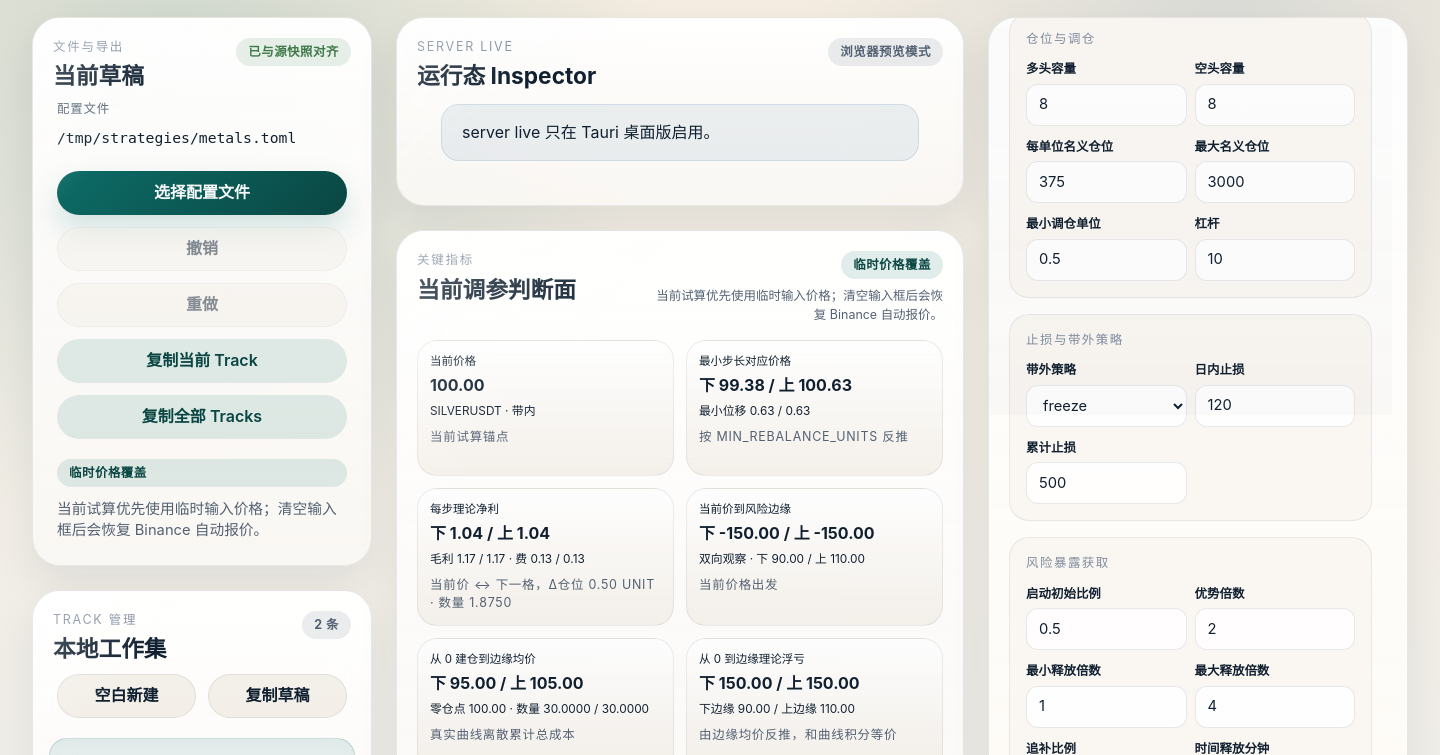
Test: AppShell › shows immediate validation feedback for invalid risk input without blocking the edit
(page scrolled)
Replace the text in the field labelled "日内止损" with "0" at (1275,406), box [1194,385,1355,427]
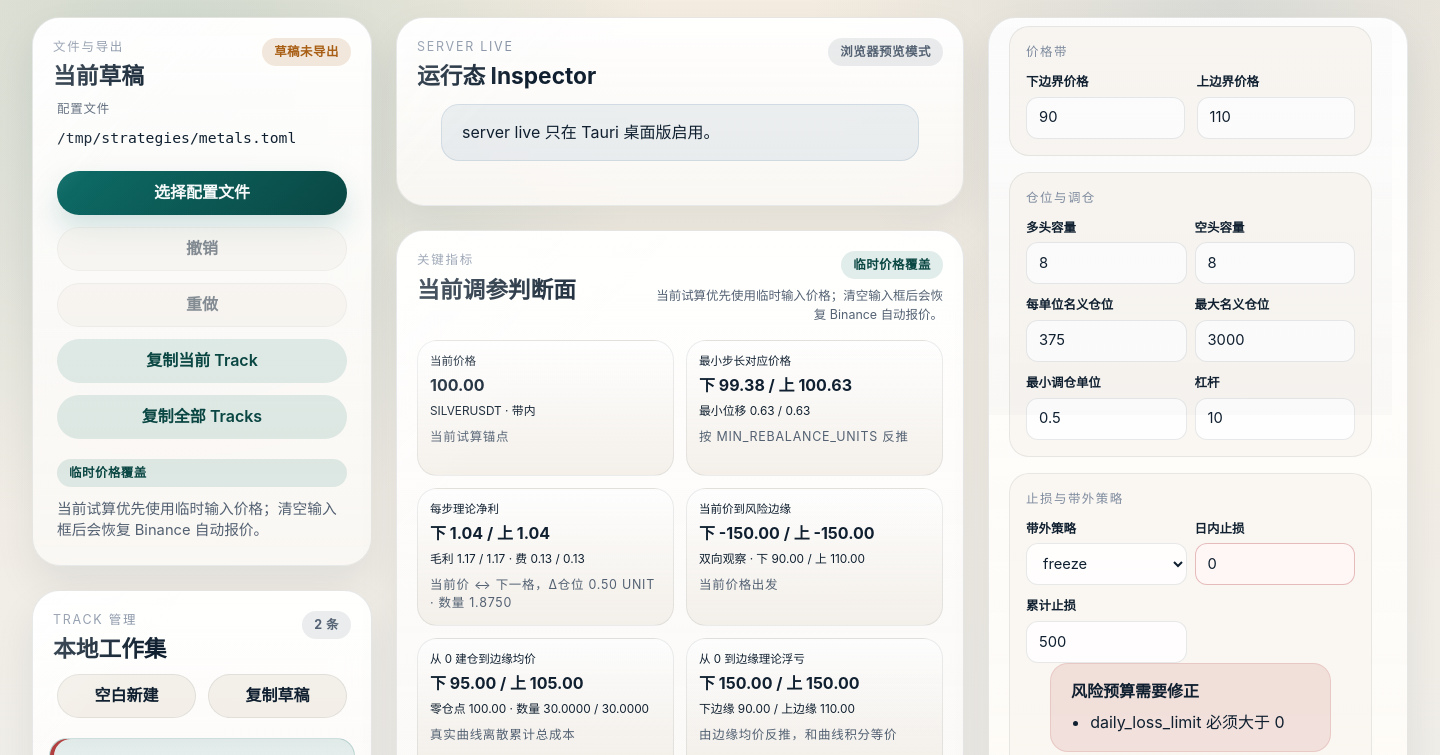
Expected: the text "当前价格" is shown, [430,354,476,368]
Expected: the list item "daily_loss_limit 必须大于 0" is shown, [1090,711,1310,735]
